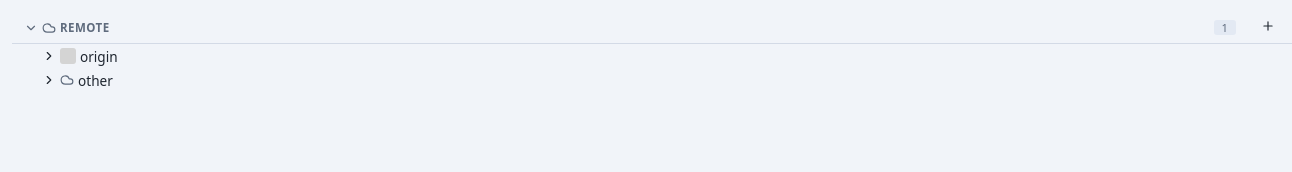
remote rows › Open on GitHub opens the web URL; other hosts say Open in browser
The image size is (1292, 172).
Right-click the list item "origin".
right_click(80, 56)  # box [42,46,118,66]
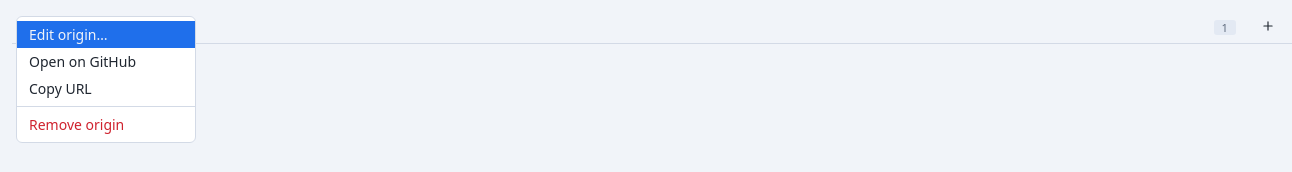
Click the menu item "Open on GitHub".
click(106, 62)  # box [17,48,195,75]
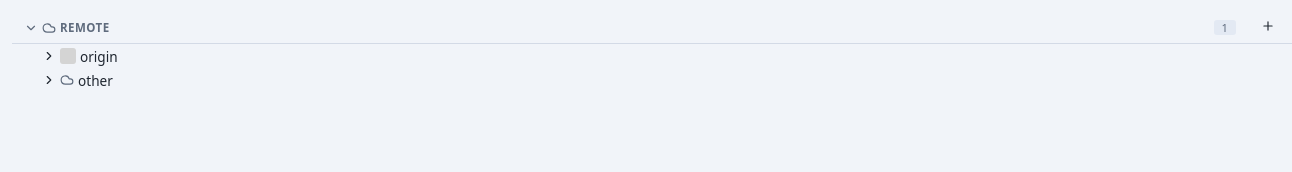
Right-click the list item "other".
right_click(77, 80)  # box [42,70,113,90]
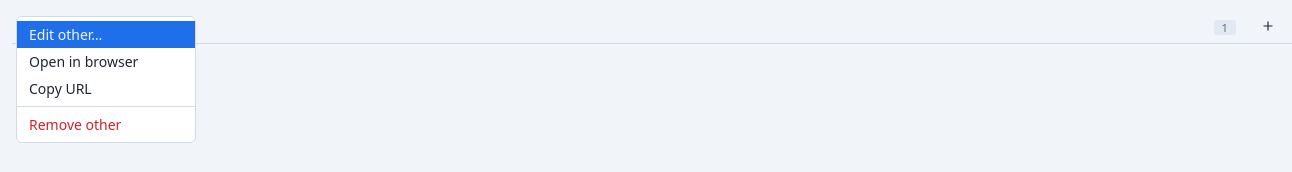
Expected: the text "Open in browser" is shown, [29,52,138,71]
